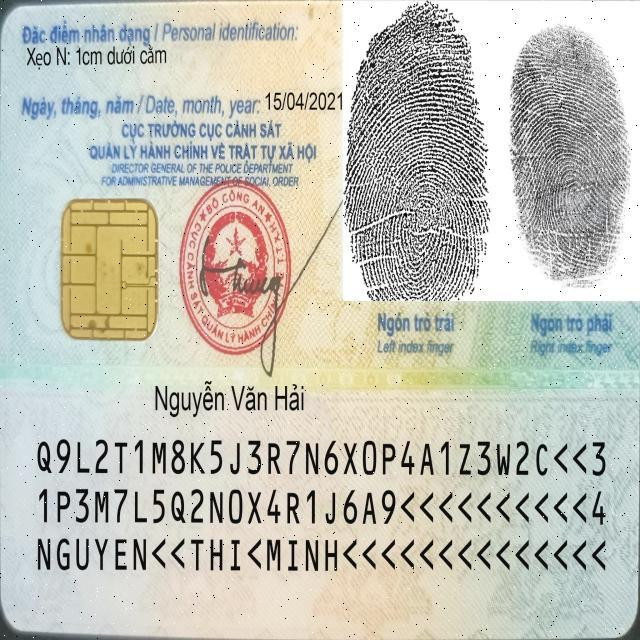features: (22, 41, 184, 78)
finger_print: (345, 1, 497, 355), (497, 1, 640, 351)
issue_date: (264, 88, 344, 116)
